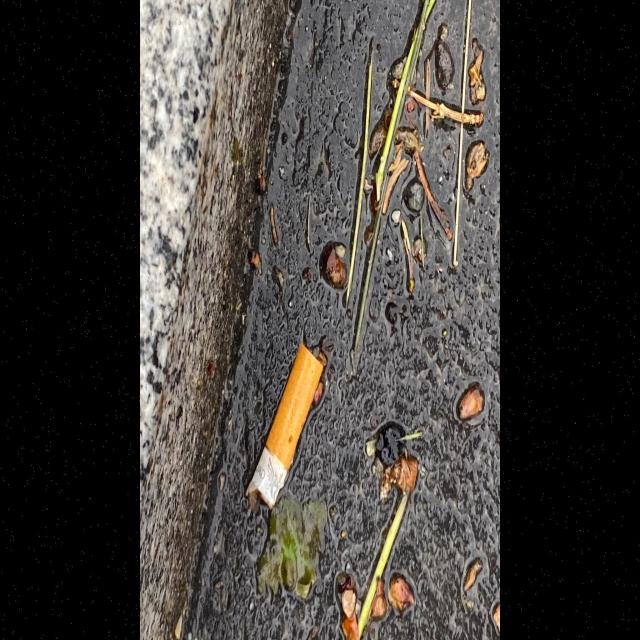other waste: (243, 341, 324, 513)
